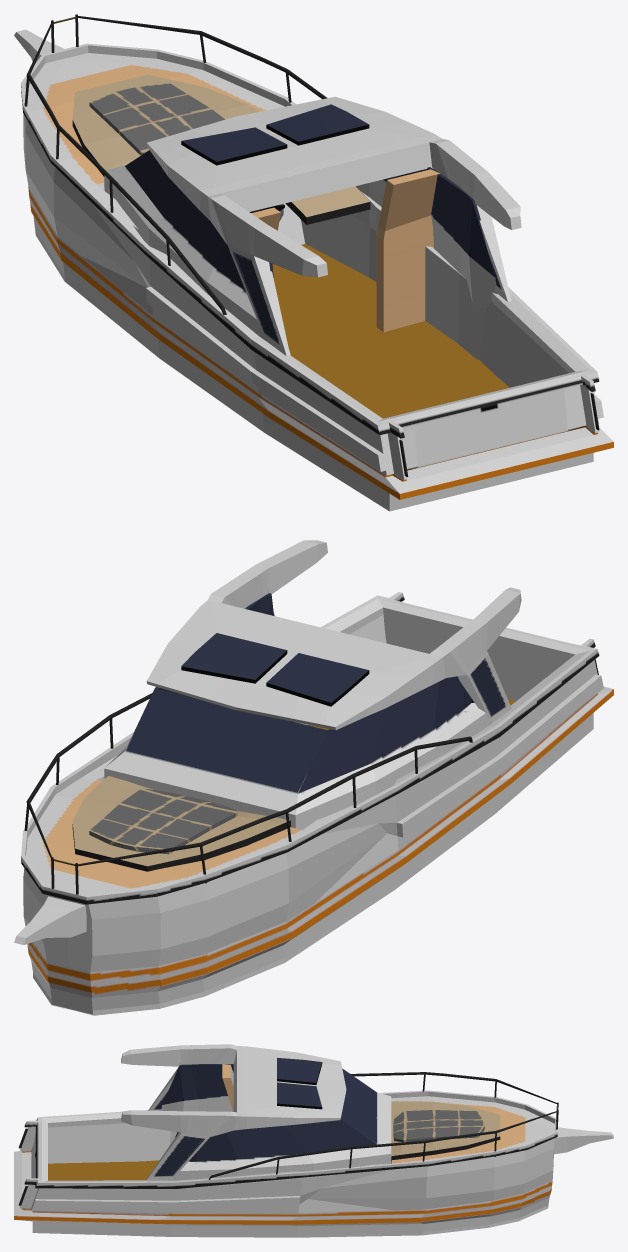
File: Yatch.obj
3 views of the same model, one above another, from view 1: azimuth 30°, elevation 25°; view 2: azimuth 150°, elevation 25°; view 3: azimuth 270°, elevation 25° (orthographic). The views are drawn at different scales.
Parts seen in each view (by area): view 1: Boat; view 2: Boat; view 3: Boat.
Part boxes in pixels (x1,y1,x2,y2): Boat: (14, 14, 613, 511); Boat: (14, 540, 613, 1015); Boat: (14, 1044, 613, 1237).
Size of the model in its own units: 0.9284 by 0.6883 by 3.06.
